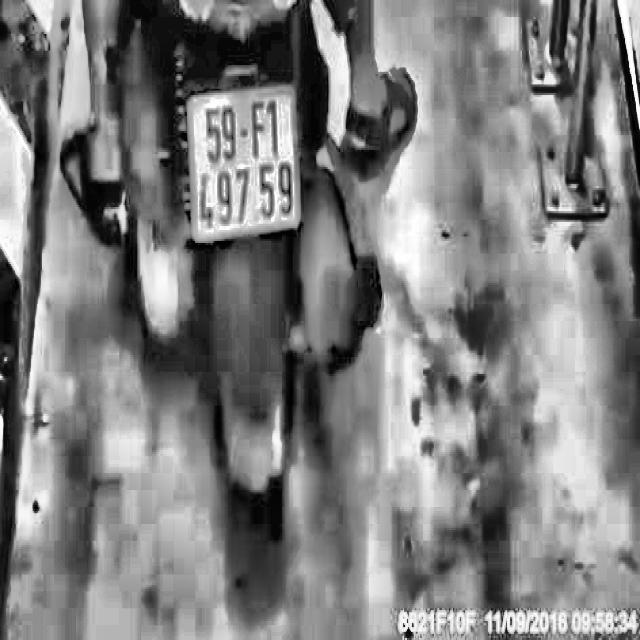plate: (182, 79, 305, 247)
